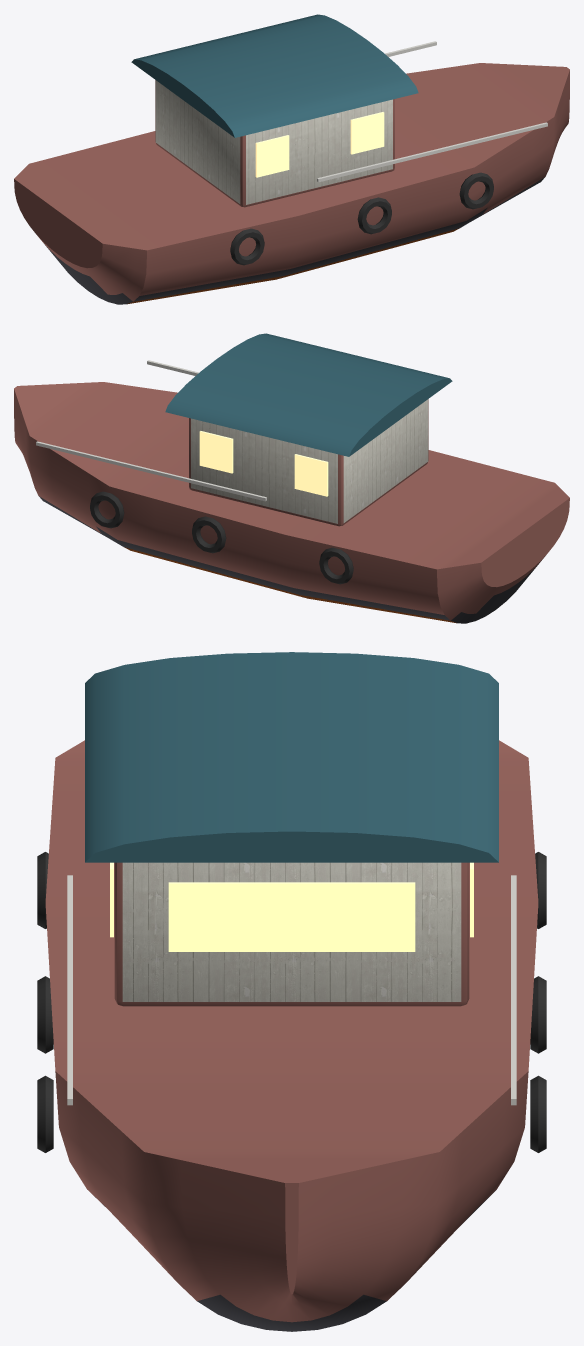
The model's file is rainport_boat.glb.
3 renders of one model, top to bottom at view 1: azimuth 30°, elevation 25°; view 2: azimuth 150°, elevation 25°; view 3: azimuth 270°, elevation 25°, orthographic. The views are drawn at different scales.
Visible parts, largest first — view 1: rainport_boat; view 2: rainport_boat; view 3: rainport_boat.
Part boxes in pixels (x1=…): rainport_boat: x1=14, y1=14, x2=569, y2=304; rainport_boat: x1=14, y1=333, x2=569, y2=623; rainport_boat: x1=37, y1=652, x2=546, y2=1331.
Bounding box in the file's own units: 8.6 × 3.15 × 3.72.
8 materials, 2 textured.
